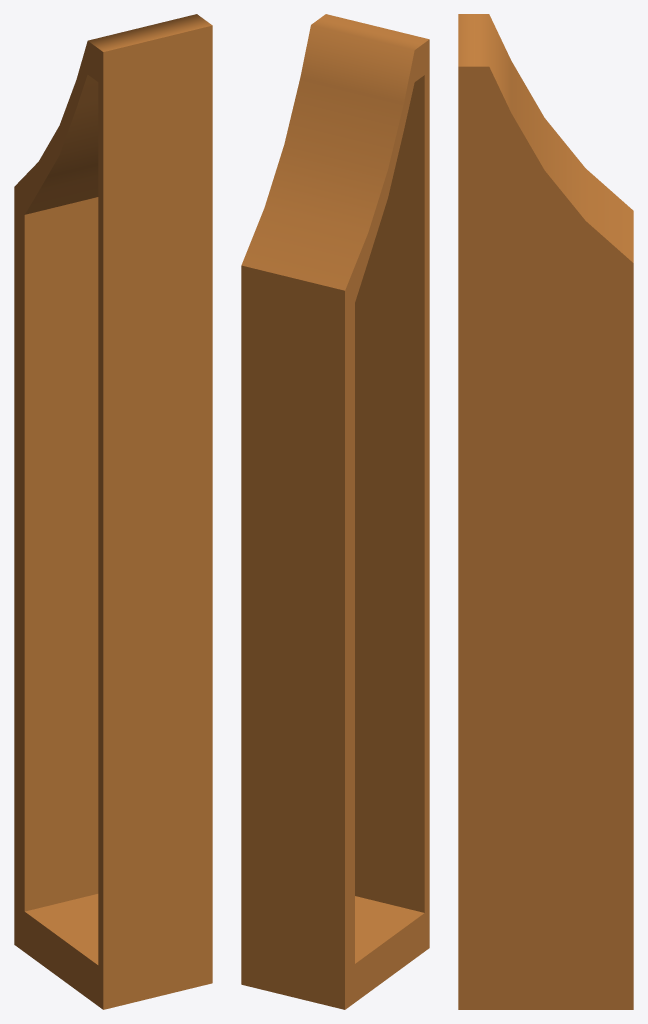
Rendered from Large Left.fbx.
The picture shows the model from 3 angles, left to right: view 1: azimuth 30°, elevation 25°; view 2: azimuth 150°, elevation 25°; view 3: azimuth 270°, elevation 25°; orthographic projection. The views are drawn at different scales.
Visible parts, largest first — view 1: polySurface116; view 2: polySurface116; view 3: polySurface116.
Boxes of the visible parts, bbox=[...] form: polySurface116: bbox=[14, 14, 212, 1009]; polySurface116: bbox=[241, 14, 429, 1009]; polySurface116: bbox=[458, 14, 633, 1009].
Size of the model in its own units: 2.14 by 17.91 by 3.02.
Materials: 1 (1 with a texture image).
